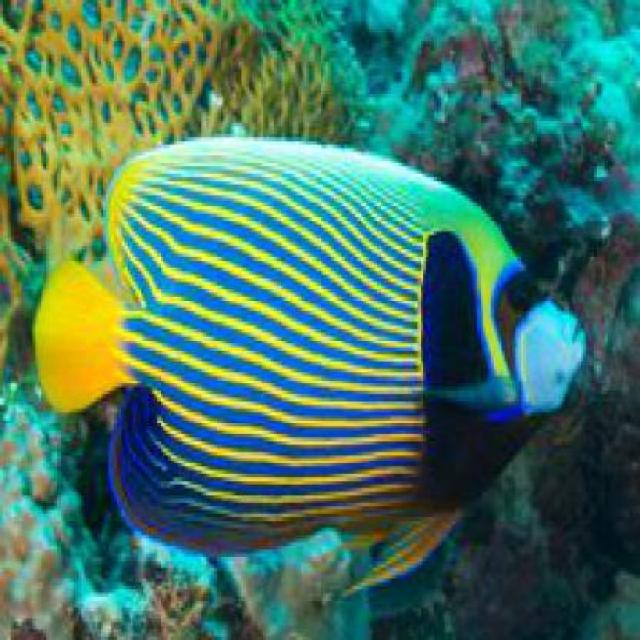AngelFish: (35, 140, 581, 596)
